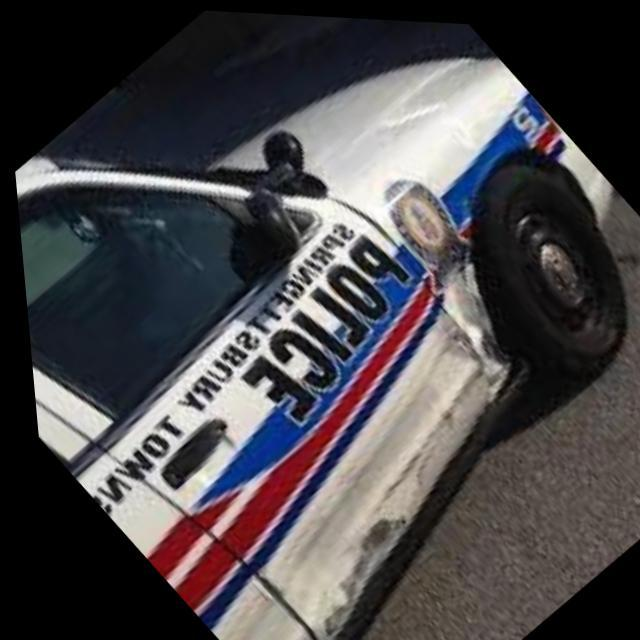crack: (277, 214, 502, 640)
